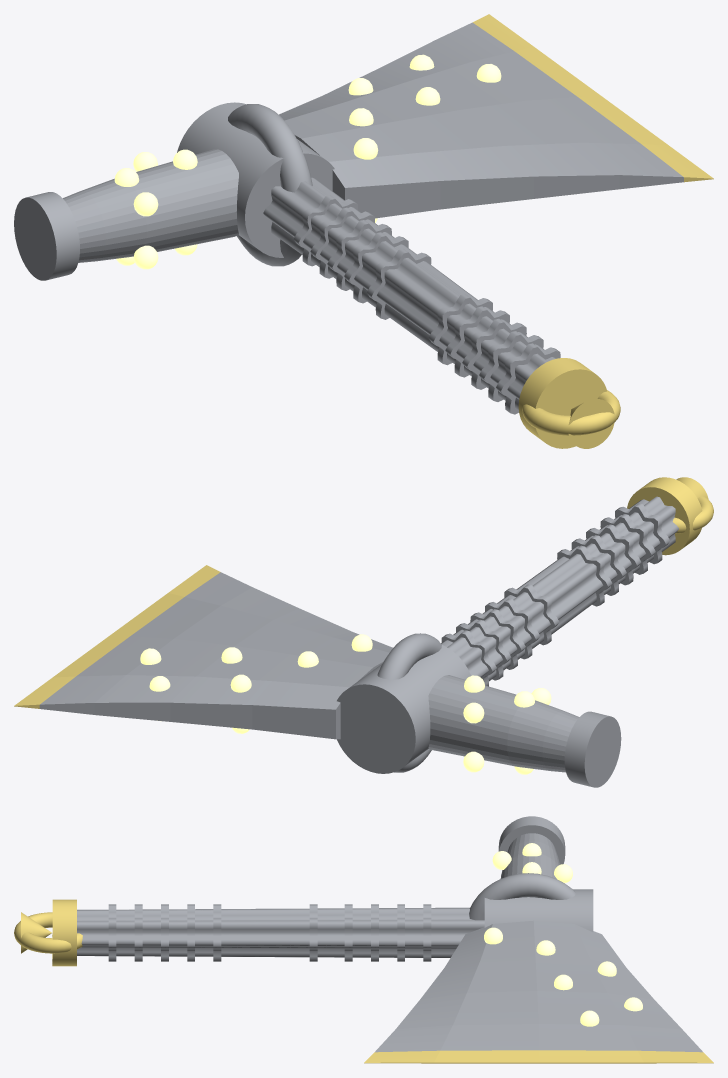
The model's file is art_mountain_breaker.fbx.
The picture shows the model from 3 angles, top to bottom: view 1: azimuth 30°, elevation 25°; view 2: azimuth 150°, elevation 25°; view 3: azimuth 270°, elevation 25°; orthographic projection. The views are drawn at different scales.
Visible parts, largest first — view 1: Blade, Handle, BackSpike, HeadCollar, Pommel, RuneInlay, BladeEdge; view 2: Blade, Handle, BackSpike, HeadCollar, RuneInlay, BladeEdge, Pommel; view 3: Blade, Handle, HeadCollar, BladeEdge, Pommel, BackSpike, RuneInlay.
Boxes of the visible parts, x1,y1,x2,y2 form: Blade: [279, 22, 683, 218]; Handle: [263, 177, 560, 414]; BackSpike: [14, 149, 238, 280]; HeadCollar: [177, 102, 334, 266]; Pommel: [518, 358, 620, 448]; RuneInlay: [114, 54, 501, 269]; BladeEdge: [473, 14, 713, 182]; Blade: [39, 572, 392, 739]; Handle: [441, 496, 678, 686]; BackSpike: [428, 675, 621, 787]; HeadCollar: [337, 633, 471, 773]; RuneInlay: [140, 634, 551, 774]; BladeEdge: [14, 565, 220, 708]; Pommel: [627, 477, 713, 555]; Blade: [375, 920, 702, 1052]; Handle: [77, 904, 484, 961]; HeadCollar: [469, 873, 593, 931]; BladeEdge: [364, 1050, 713, 1063]; Pommel: [14, 899, 82, 966]; BackSpike: [498, 816, 565, 878]; RuneInlay: [484, 843, 642, 1026].
Bounding box in the file's own units: 293 × 74 × 400.
